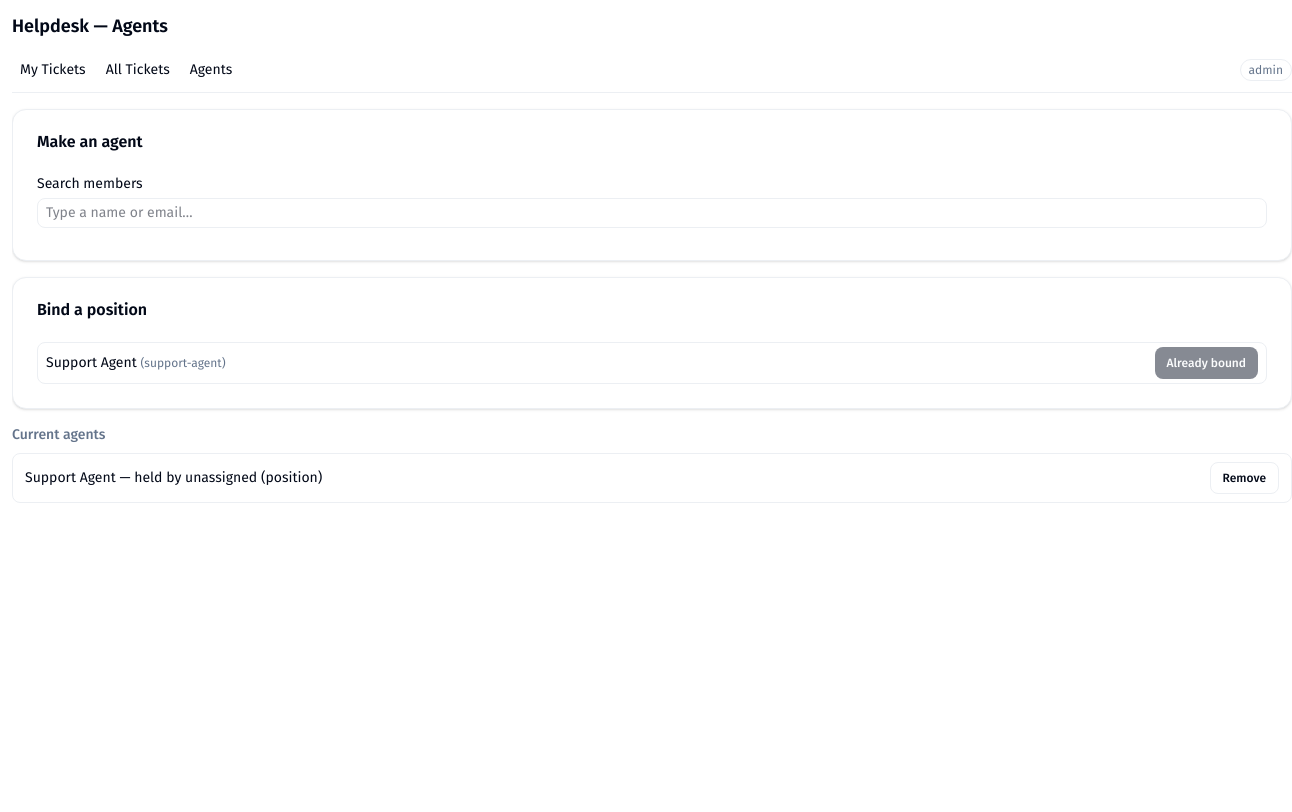
Scenario: AgentsAdminPage › removes a position binding via the unambiguous position-revoke route
The width and height of the screenshot is (1292, 812).
Expected: the list item with test id "helpdesk-agent-position-1" is shown, [12,453,1291,503]
Step 1. Click the button with test id "helpdesk-remove-agent-position-1" → click(1244, 478), box [1210,462,1279,494]
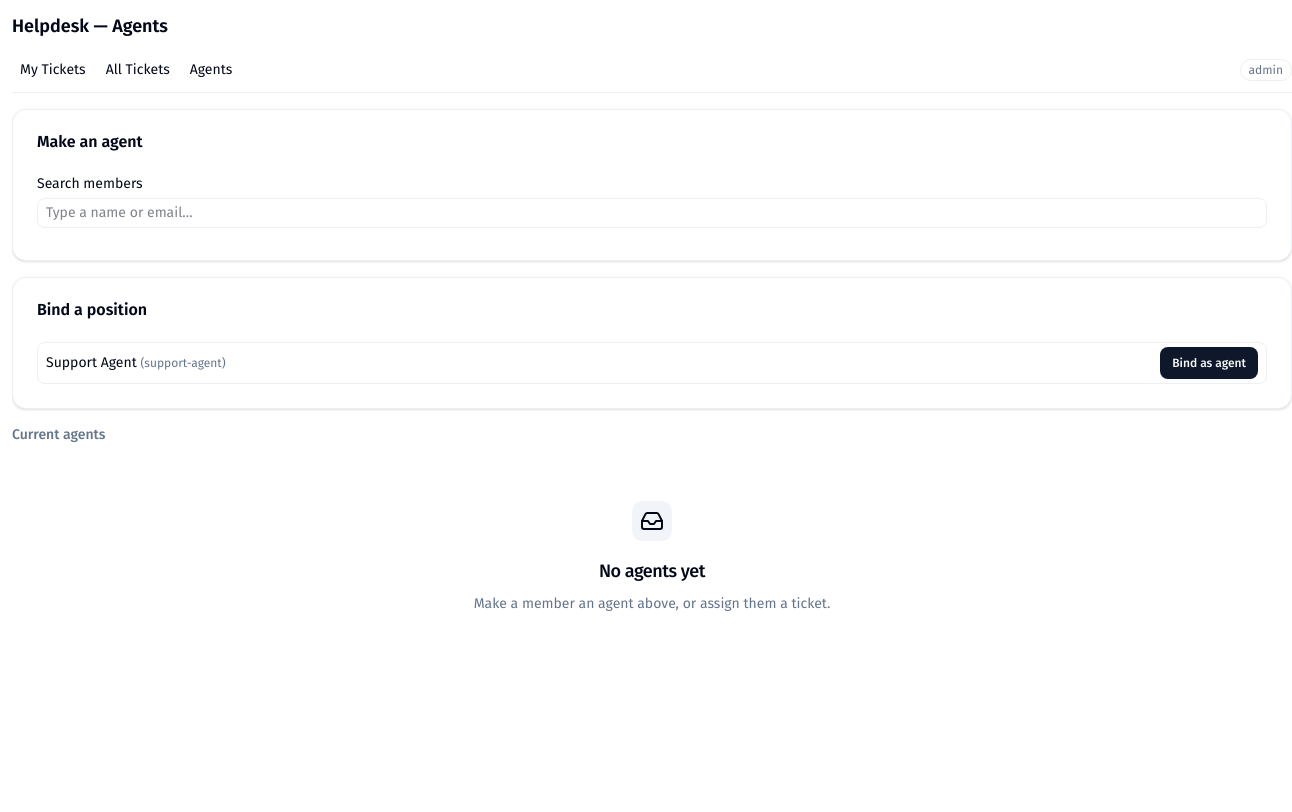
Expected: the list item with test id "helpdesk-agent-position-1" is gone
